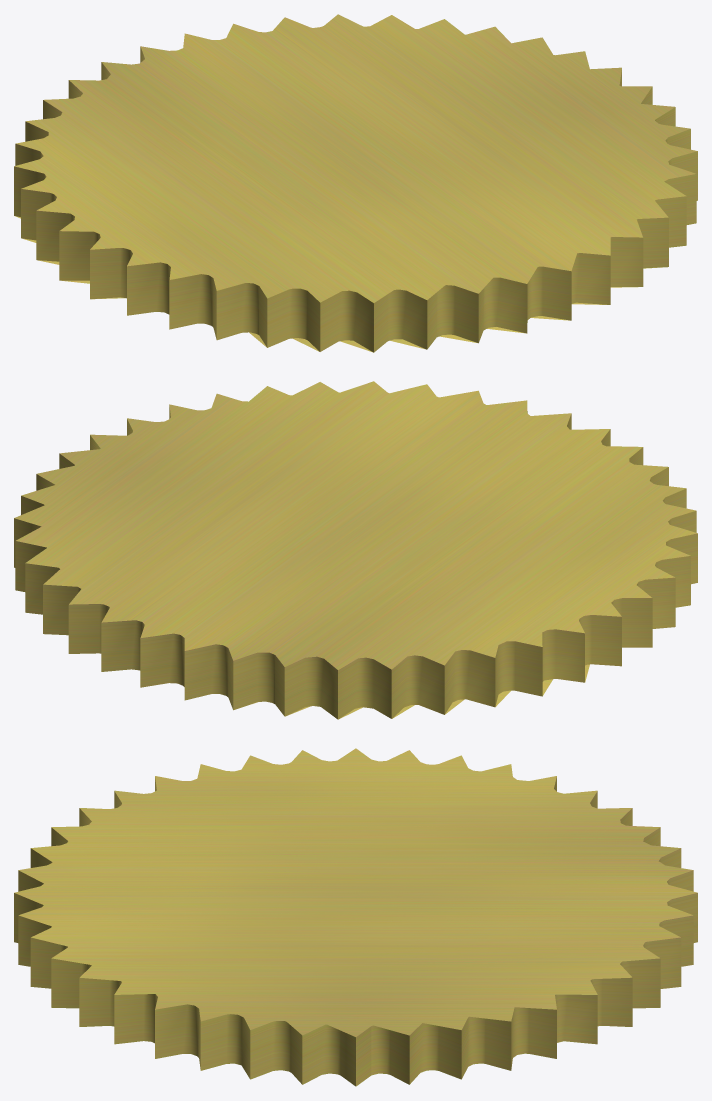
The model's file is SprocketFacet5Spoke040.fbx.
The picture shows the model from 3 angles, top to bottom: view 1: azimuth 30°, elevation 25°; view 2: azimuth 150°, elevation 25°; view 3: azimuth 270°, elevation 25°; orthographic projection.
Visible parts, largest first — view 1: SprocketFacet5Spoke040; view 2: SprocketFacet5Spoke040; view 3: SprocketFacet5Spoke040.
Boxes of the visible parts, box(x1,y1,x2,y2) form: SprocketFacet5Spoke040: box(14, 14, 697, 352); SprocketFacet5Spoke040: box(14, 381, 697, 719); SprocketFacet5Spoke040: box(14, 748, 697, 1086).
Size of the model in its own units: 247 by 19.69 by 247.
